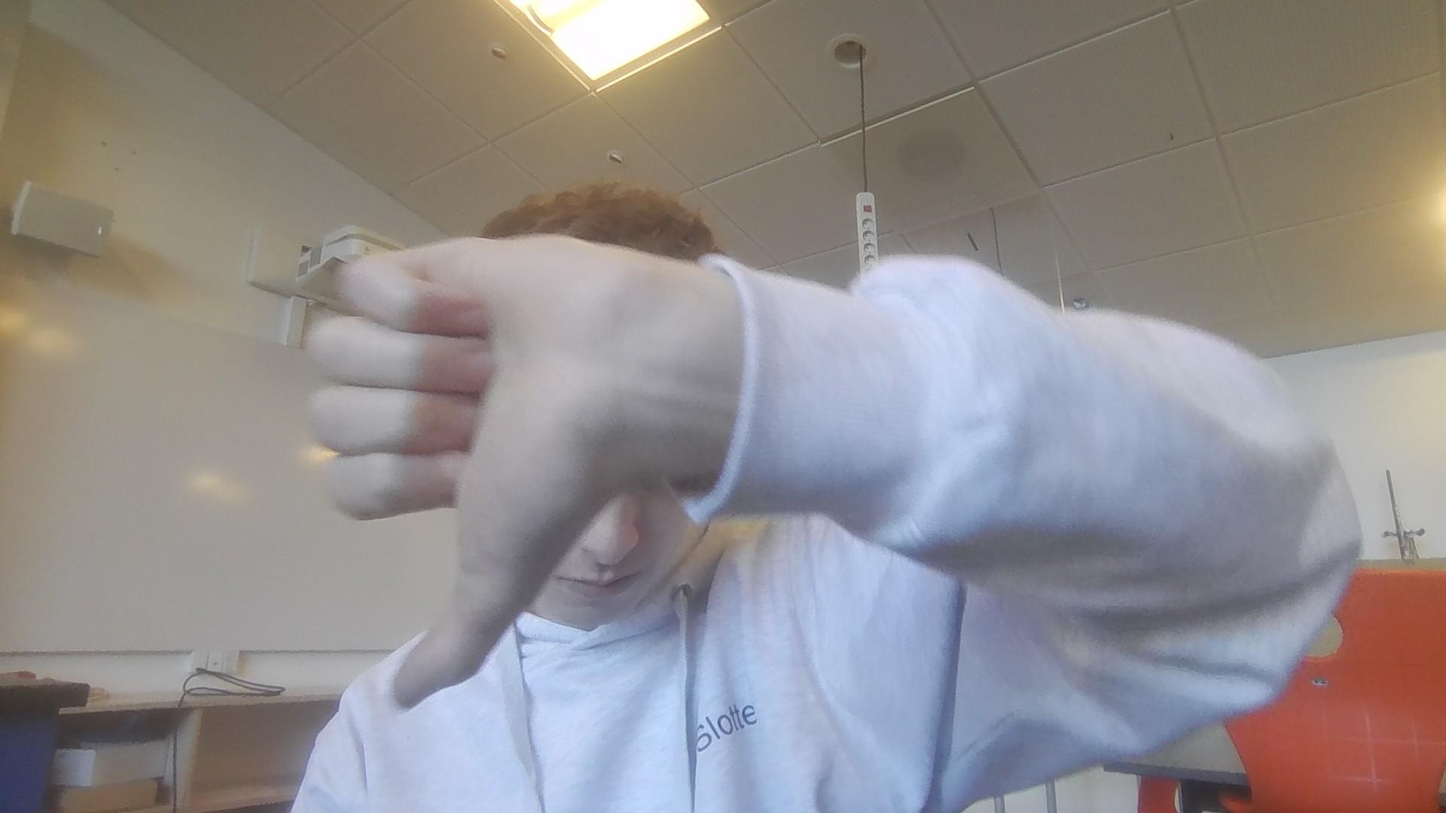thumbs down: (297, 225, 636, 706)
